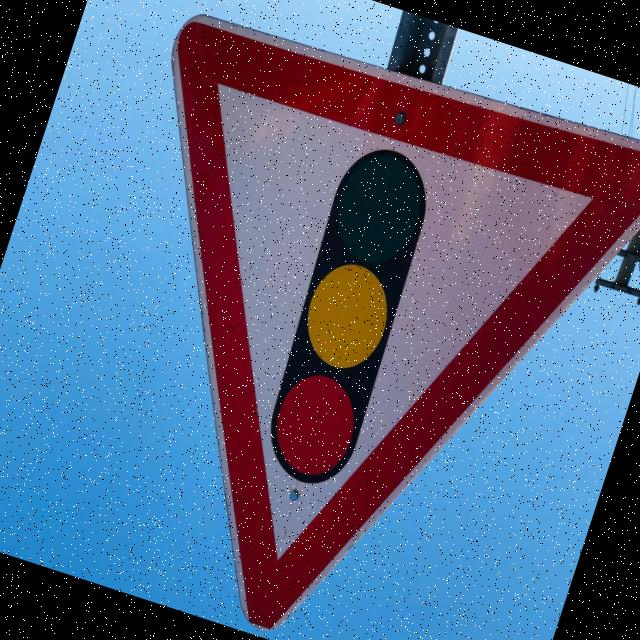light_traffic: (9, 0, 640, 640)
